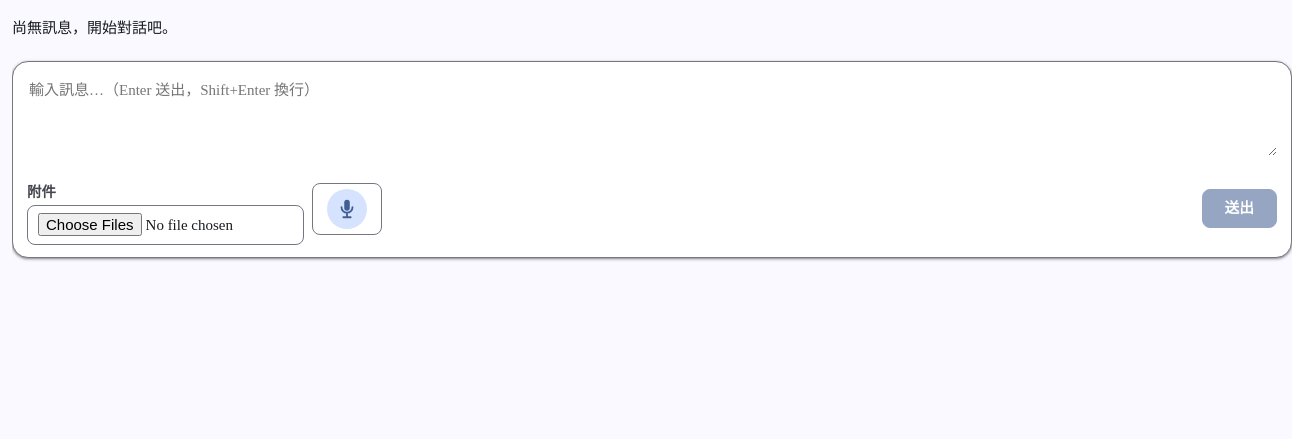
Test: MessageThread shows the server's own answer (11-app-shell/phase-3, ADR 0017) › shows the assistant's real server-generated reply, not a local mock stream
Check: the text "尚無訊息，開始對話吧。" is shown, box [12,20,177,36]
Type "保固期限是多久？" into the text box labelled "訊息". click: [652, 115]
box: [27,74,1277,156]
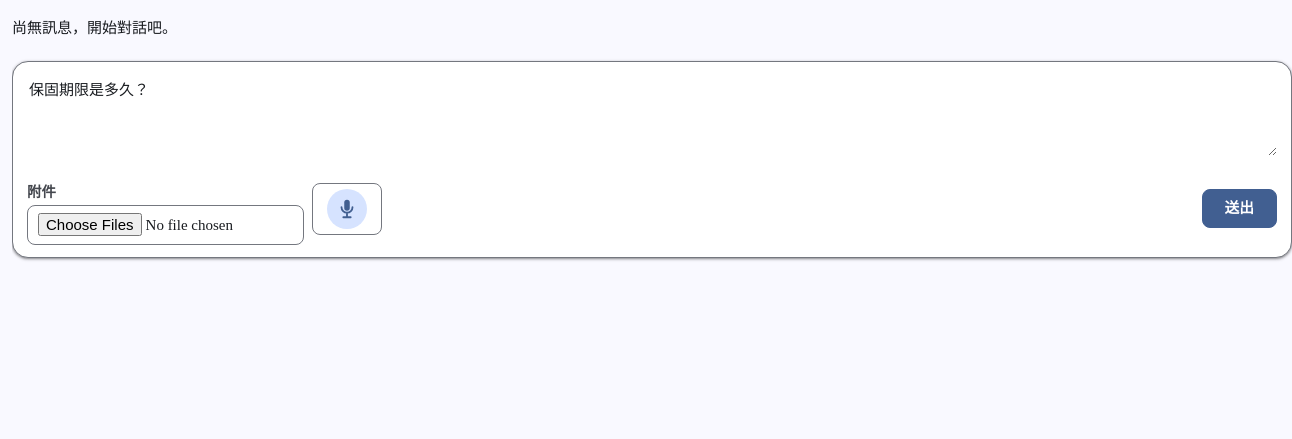
Click the button "送出". click: [1239, 209]
box: [1202,189,1277,228]
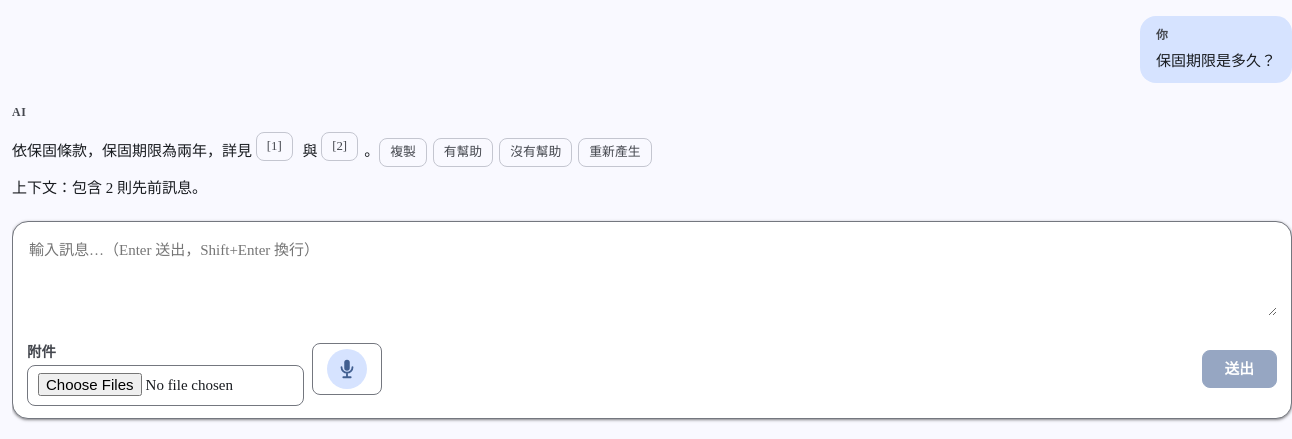
Check: the list item "AI 依保固條款，保固期限為兩年，詳見 [1] 與 [2] 。 複製 有幫助 沒有幫助 重新產生" is shown, box [12,105,652,167]
Check: the element showing "依保固條款，保固期限為兩年，詳見 [1] 與 [2] 。" is shown, box [12,143,379,159]
